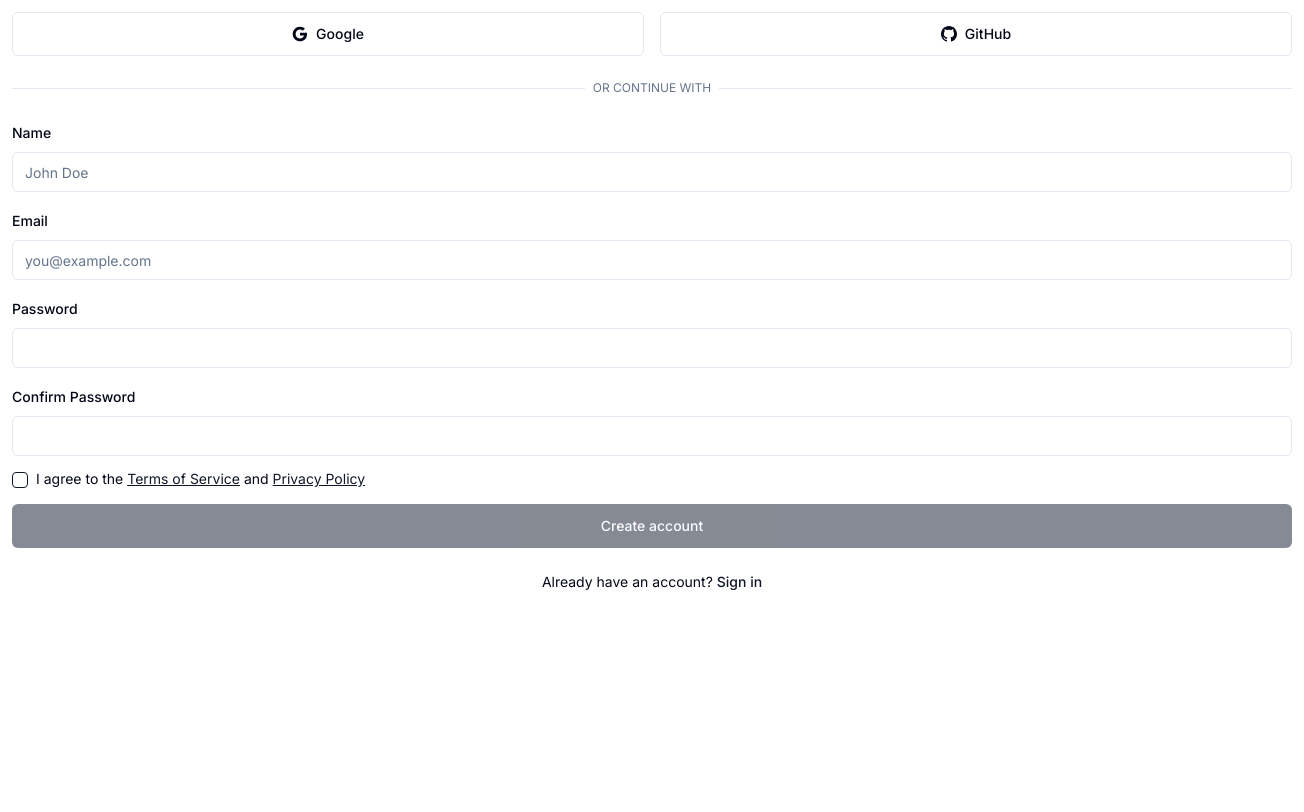
Test case: RegisterForm › Rendering › disables submit button when TOS is unchecked
Accept TOS
Click the checkbox named "terms of service". click: click(20, 480)
box: x1=12 y1=472 x2=28 y2=488
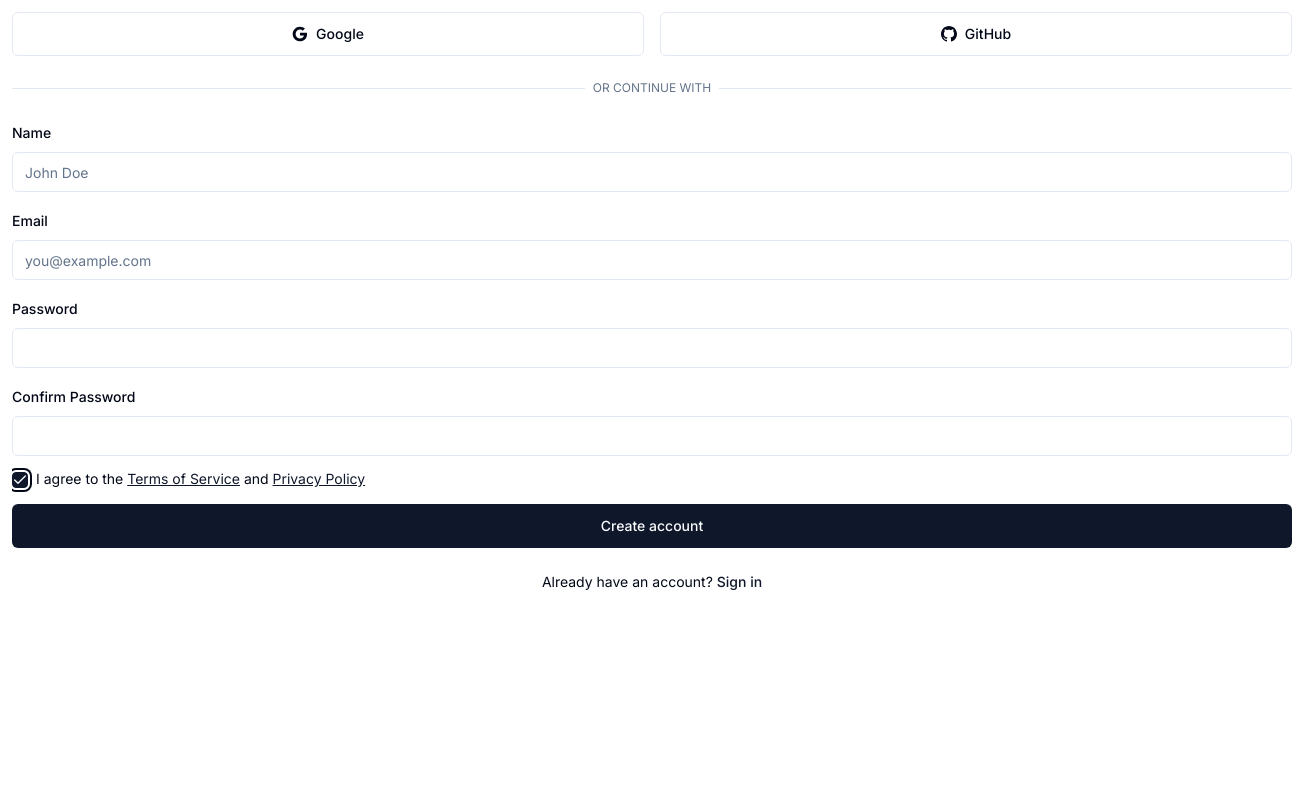
Check: the button with test id "register-button" is enabled, box x1=12 y1=504 x2=1292 y2=548
Uncheck TOS
Click the checkbox named "terms of service". click: click(20, 480)
box: x1=12 y1=472 x2=28 y2=488
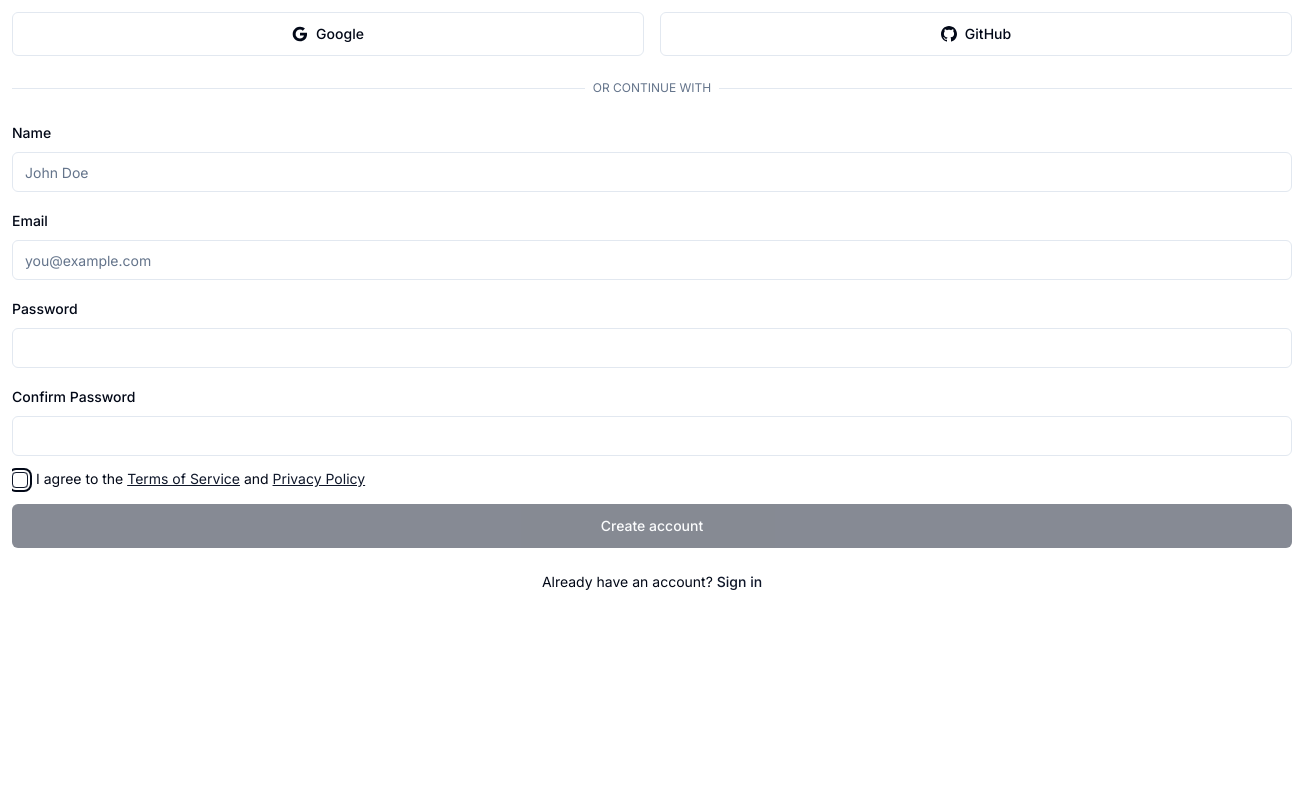
Check: the button with test id "register-button" is disabled, box x1=12 y1=504 x2=1292 y2=548
